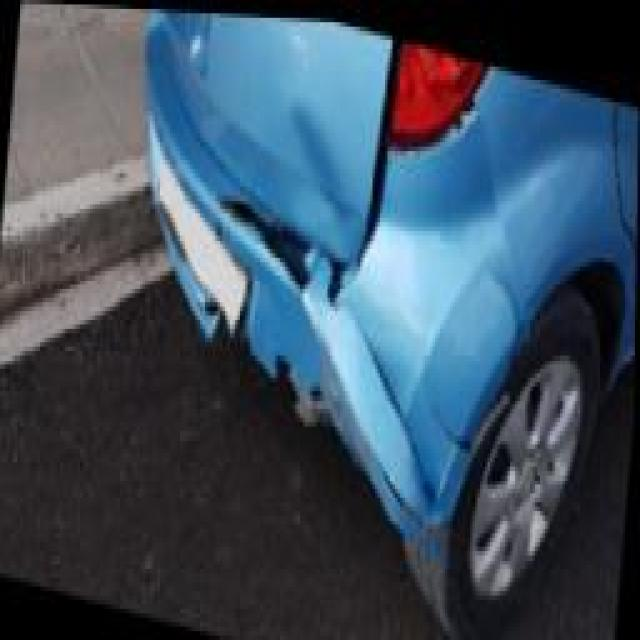Bumper: (145, 8, 534, 554)
